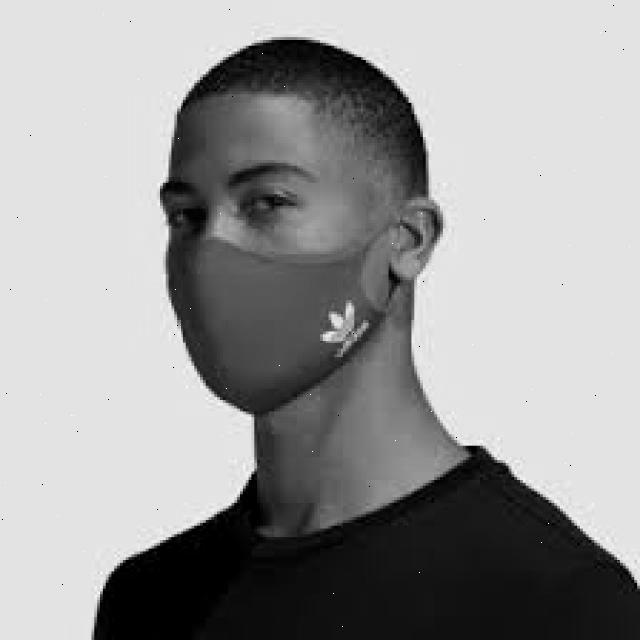fake: (162, 229, 430, 424)
real: (157, 89, 388, 422)
